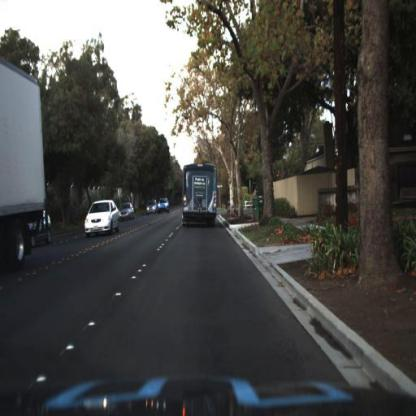car: (82, 196, 122, 236), (19, 206, 53, 250), (117, 198, 137, 228), (157, 194, 170, 215), (156, 196, 170, 214), (144, 198, 156, 216)
truck: (0, 53, 46, 278), (178, 160, 218, 233)
